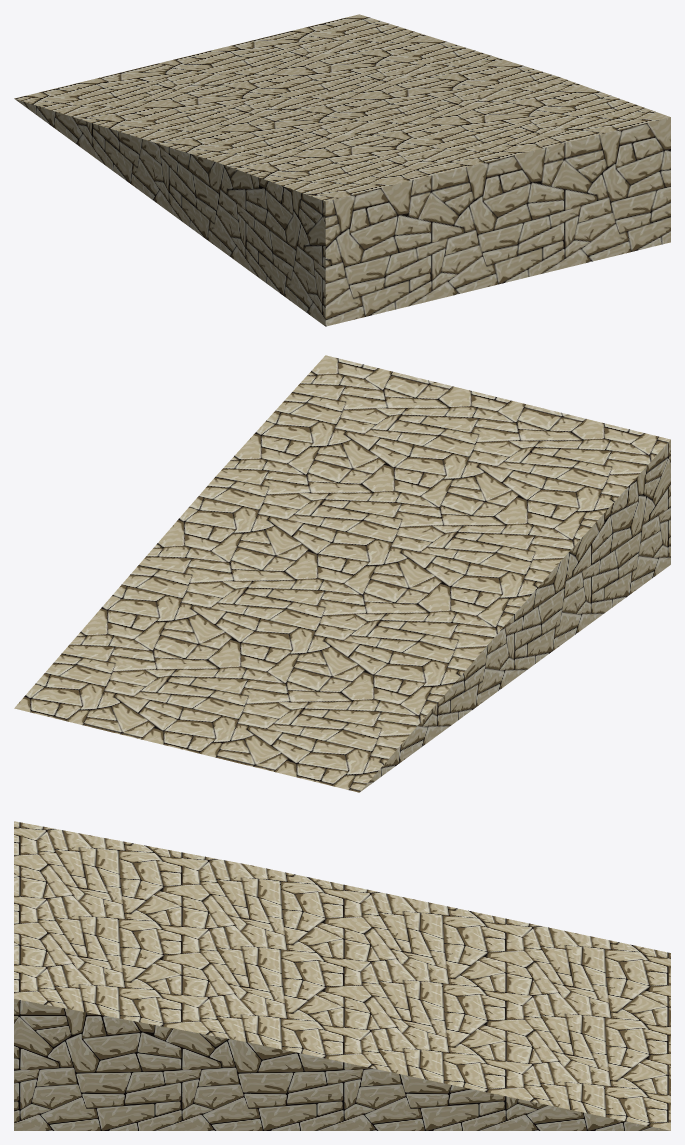
Rendered from ramp.glb.
3 renders of one model, top to bottom at view 1: azimuth 30°, elevation 25°; view 2: azimuth 150°, elevation 25°; view 3: azimuth 270°, elevation 25°, orthographic. The views are drawn at different scales.
Parts seen in each view (by area): view 1: Cube; view 2: Cube; view 3: Cube.
Part boxes in pixels (x1,y1,x2,y2): Cube: (14,14,670,326); Cube: (14,355,670,792); Cube: (14,821,670,1130).
Size of the model in its own units: 2.6 by 0.8987 by 4.05.
1 material, 1 textured.
